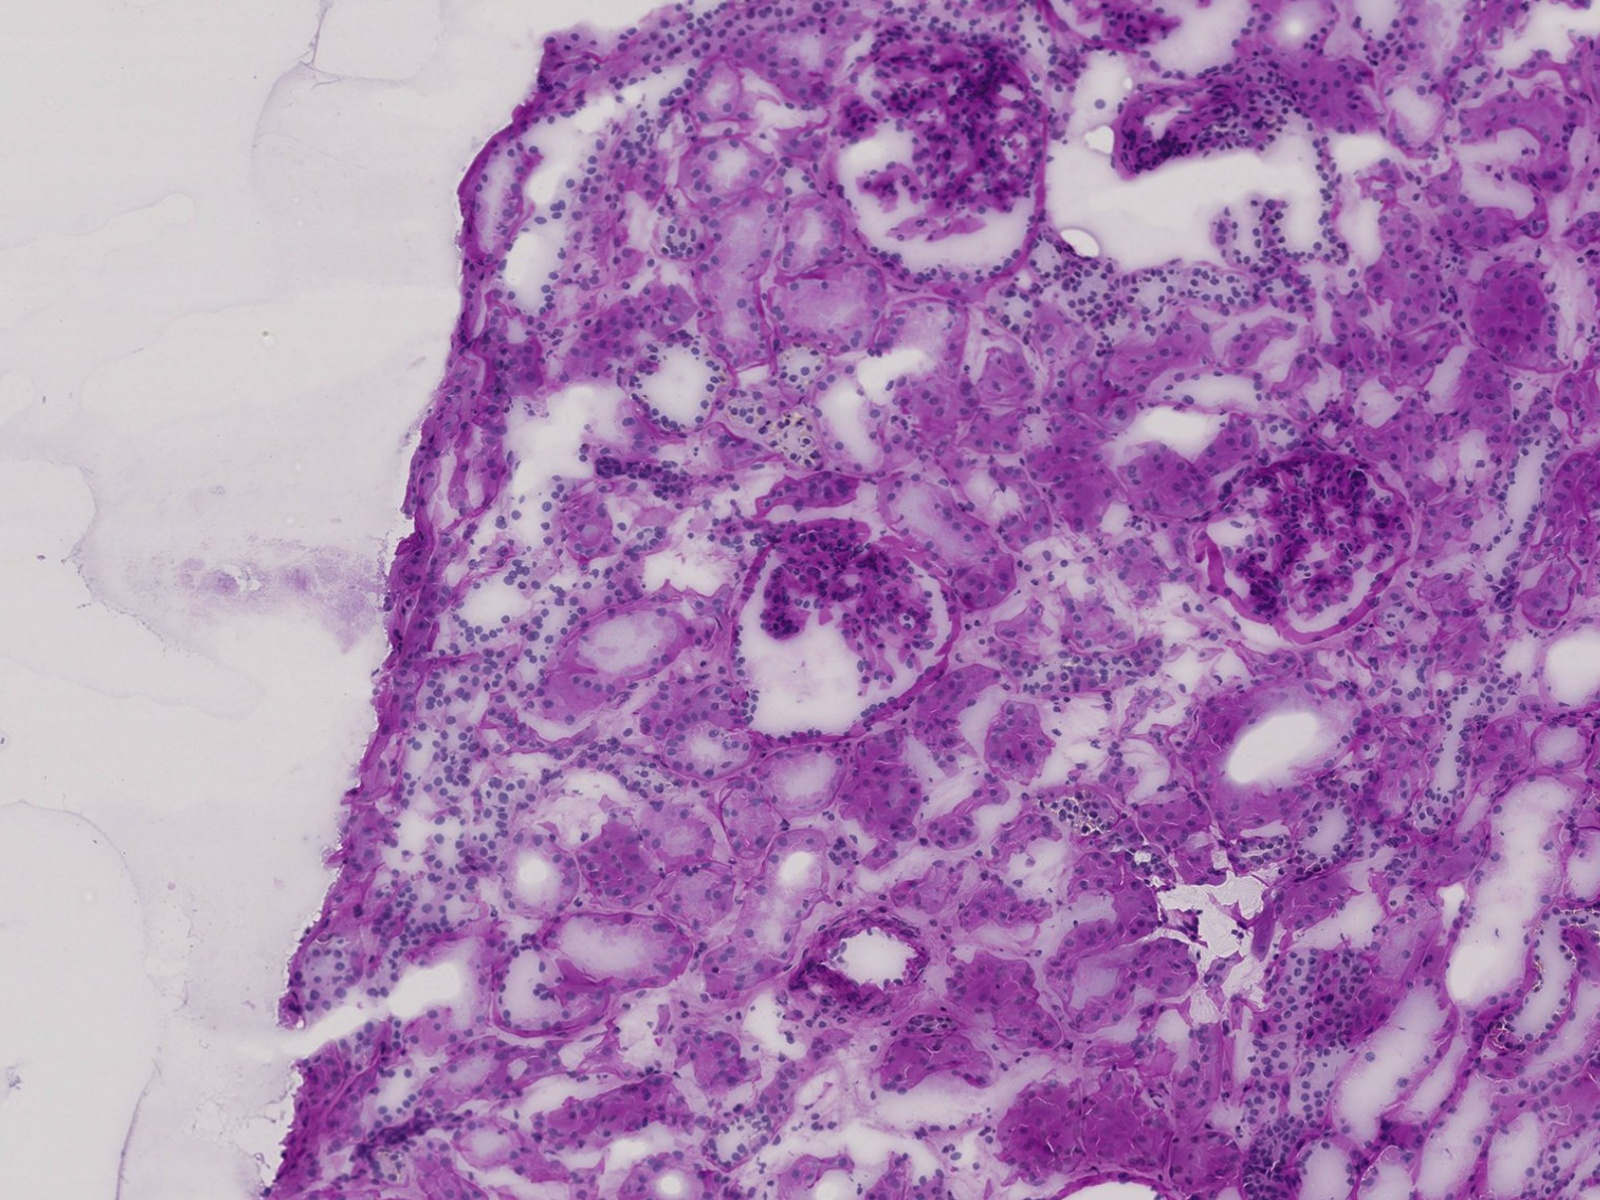Glomeruli: (826, 26, 1054, 279), (1196, 446, 1419, 642), (745, 514, 954, 695)
